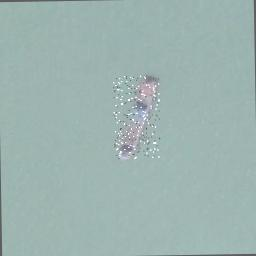boat: (114, 76, 160, 160)
